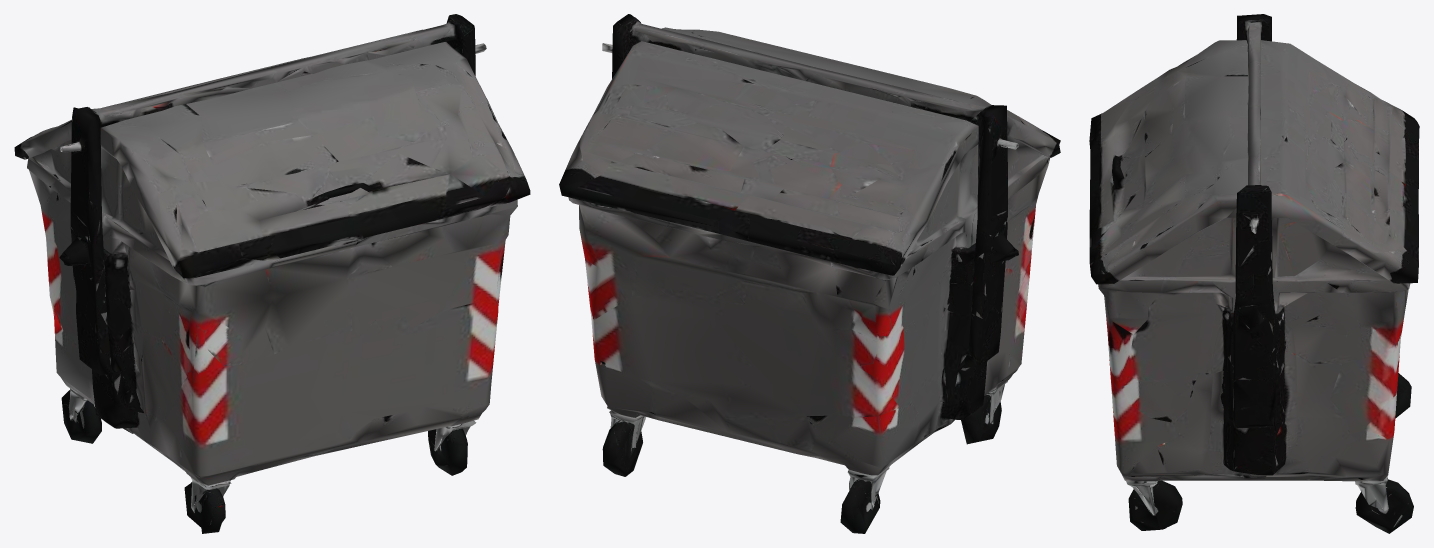
The model's file is contenedor.opt.glb.
The picture shows the model from 3 angles, left to right: view 1: azimuth 30°, elevation 25°; view 2: azimuth 150°, elevation 25°; view 3: azimuth 270°, elevation 25°; orthographic projection. The views are drawn at different scales.
Bounding box in the file's own units: 1.9 × 1.7 × 1.36.
Materials: 1 (1 with a texture image).
